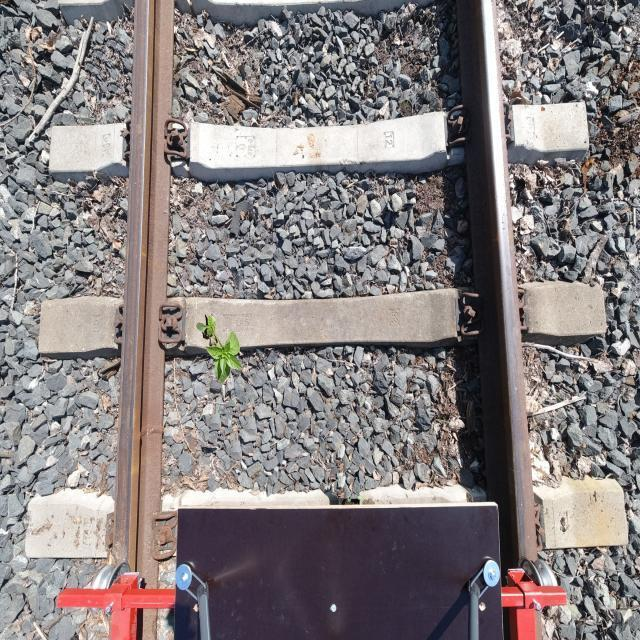Plant: (196, 313, 244, 384)
